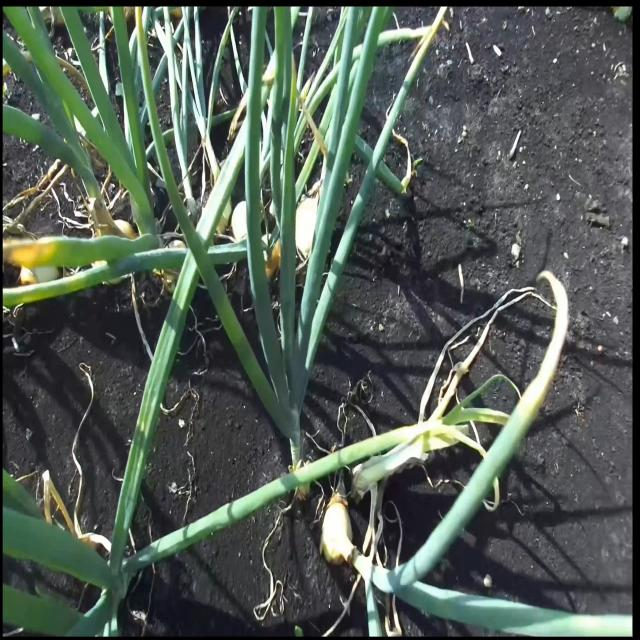onion: (319, 492, 354, 568)
